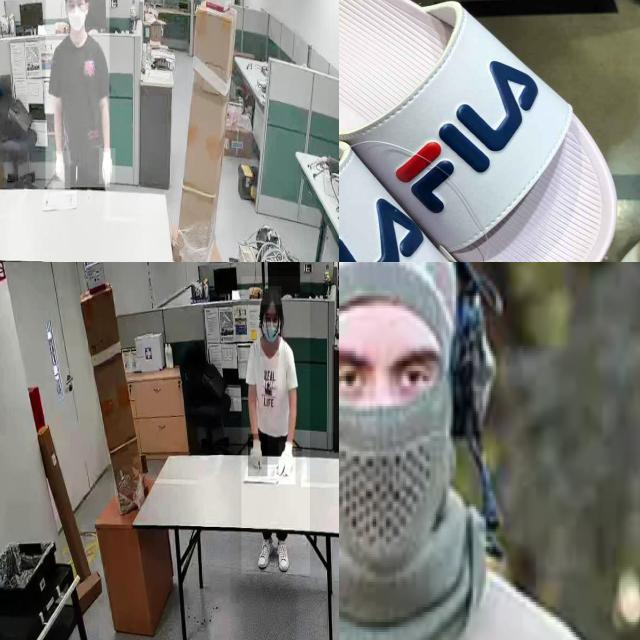Ear-protection: (339, 262, 502, 498)
Sandals: (339, 0, 623, 262)
face_mask: (260, 313, 280, 357), (66, 0, 86, 28)
hand_glove: (248, 434, 268, 477), (278, 442, 296, 485), (53, 151, 71, 191), (99, 148, 116, 185)
head_nohelmet: (260, 286, 282, 306)
person: (242, 276, 310, 575), (45, 0, 110, 188)
shoes: (254, 528, 274, 570), (274, 530, 290, 576)
